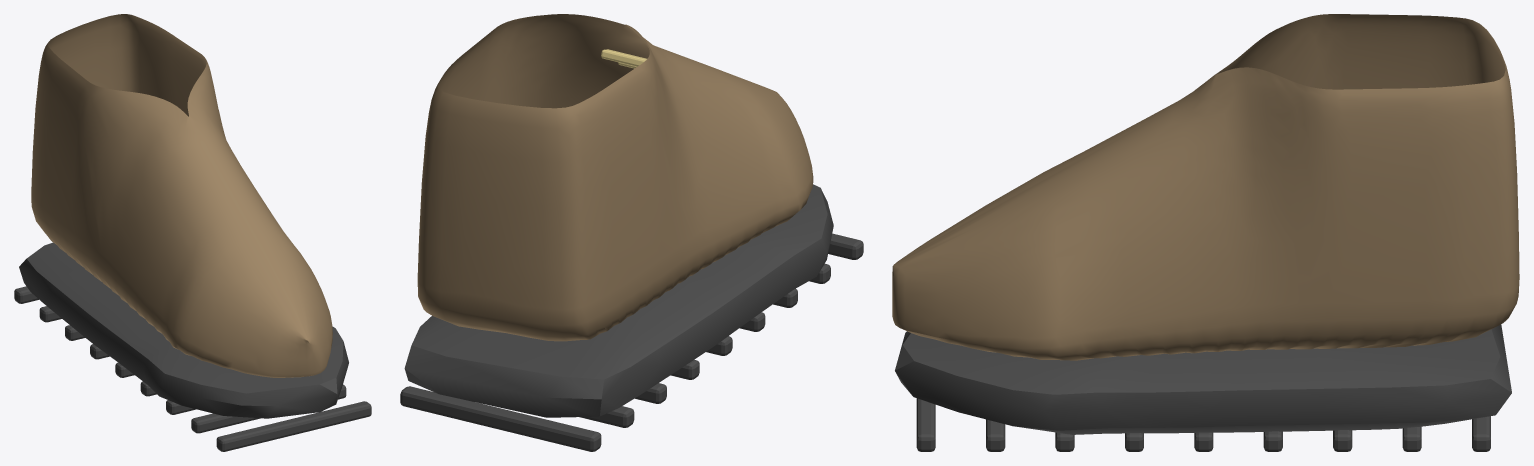
File: shoe_boot.glb
The picture shows the model from 3 angles, left to right: view 1: azimuth 30°, elevation 25°; view 2: azimuth 150°, elevation 25°; view 3: azimuth 270°, elevation 25°; orthographic projection. The views are drawn at different scales.
Visible parts, largest first — view 1: upper, sole, Cube.008, Cube.007; view 2: upper, sole, Cube, Cube.008, Cube.001; view 3: upper, sole, Cube.008, Cube.
Boxes of the visible parts, bbox=[...] form: upper: bbox=[31, 14, 332, 377]; sole: bbox=[19, 242, 348, 418]; Cube.008: bbox=[216, 401, 371, 451]; Cube.007: bbox=[191, 384, 346, 433]; upper: bbox=[417, 14, 813, 341]; sole: bbox=[404, 184, 833, 417]; Cube: bbox=[400, 386, 601, 451]; Cube.008: bbox=[828, 233, 863, 259]; Cube.001: bbox=[579, 406, 634, 427]; upper: bbox=[892, 14, 1519, 360]; sole: bbox=[895, 324, 1511, 434]; Cube.008: bbox=[916, 398, 935, 451]; Cube: bbox=[1472, 416, 1490, 451].
Bounding box in the file's own units: 0.1206 × 0.162 × 0.262.
